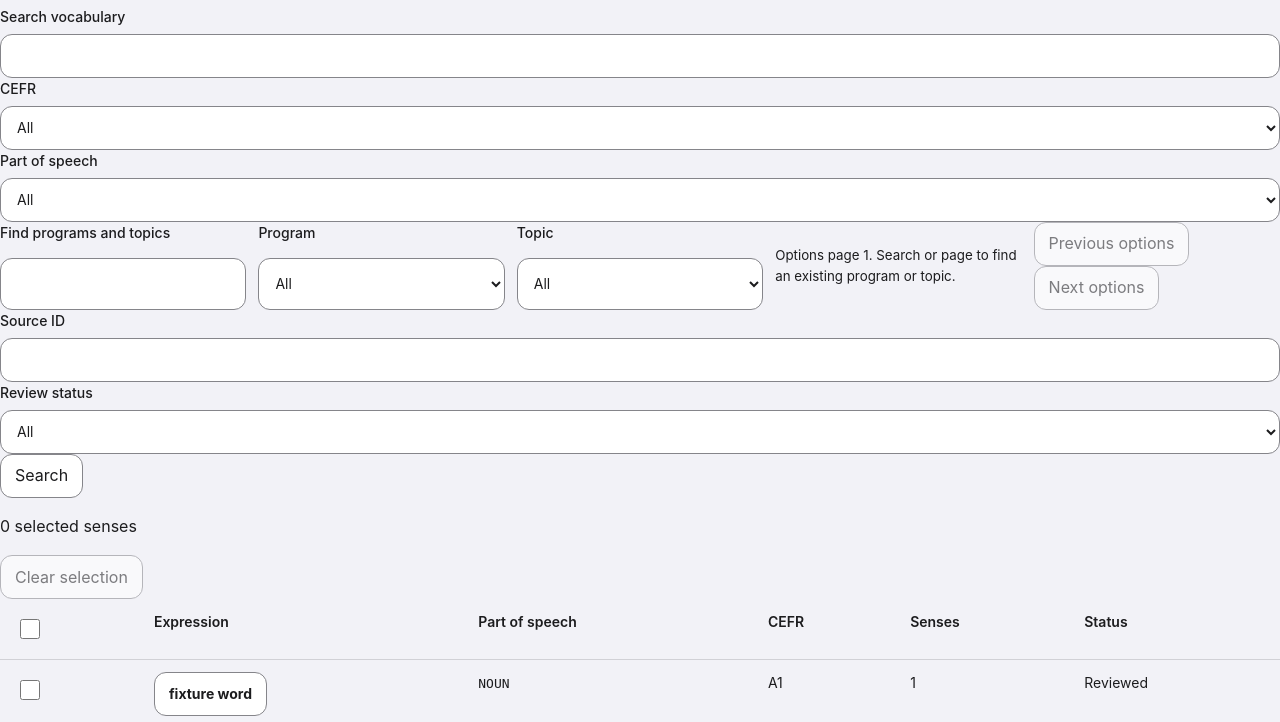
Test: vocabulary workspace › keeps PDF provenance readable when database TXT line fields are null
This screenshot has width=1280, height=722.
(page scrolled)
Click the button "fixture word": (210, 694) [154,672,267,716]
(page scrolled)
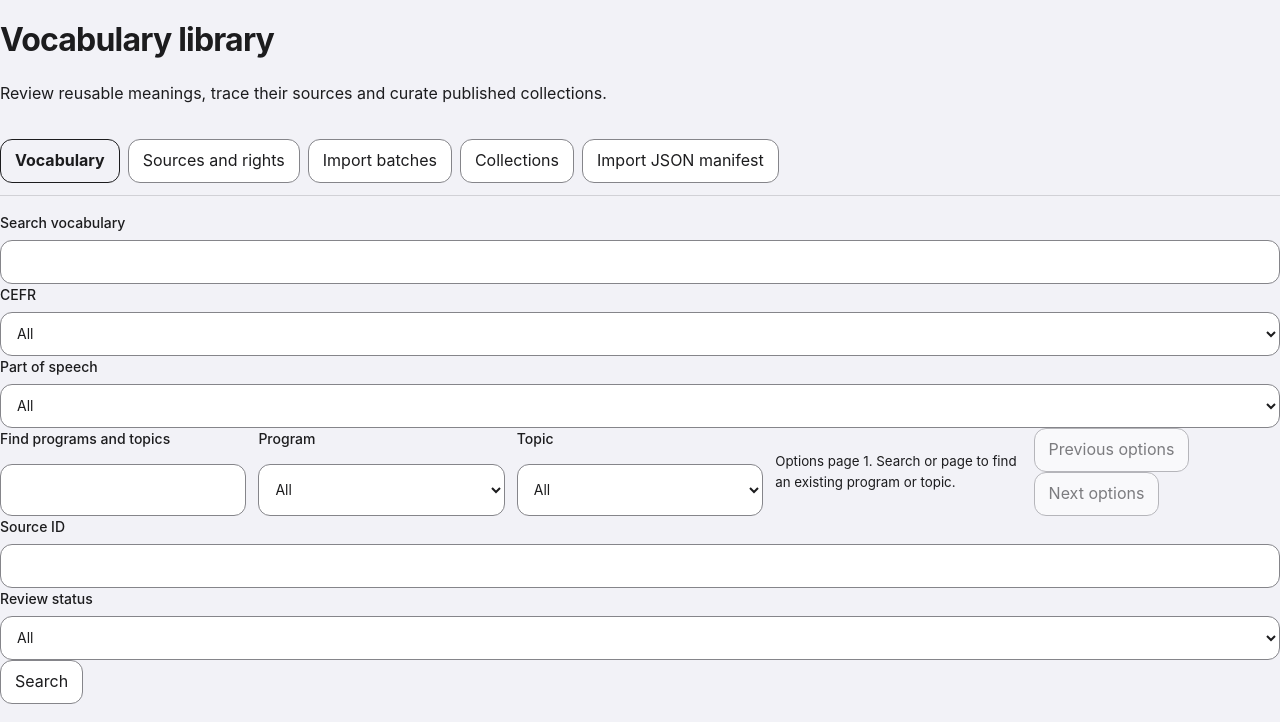
Click the button "Import batches": (380, 161) [308,139,452,183]
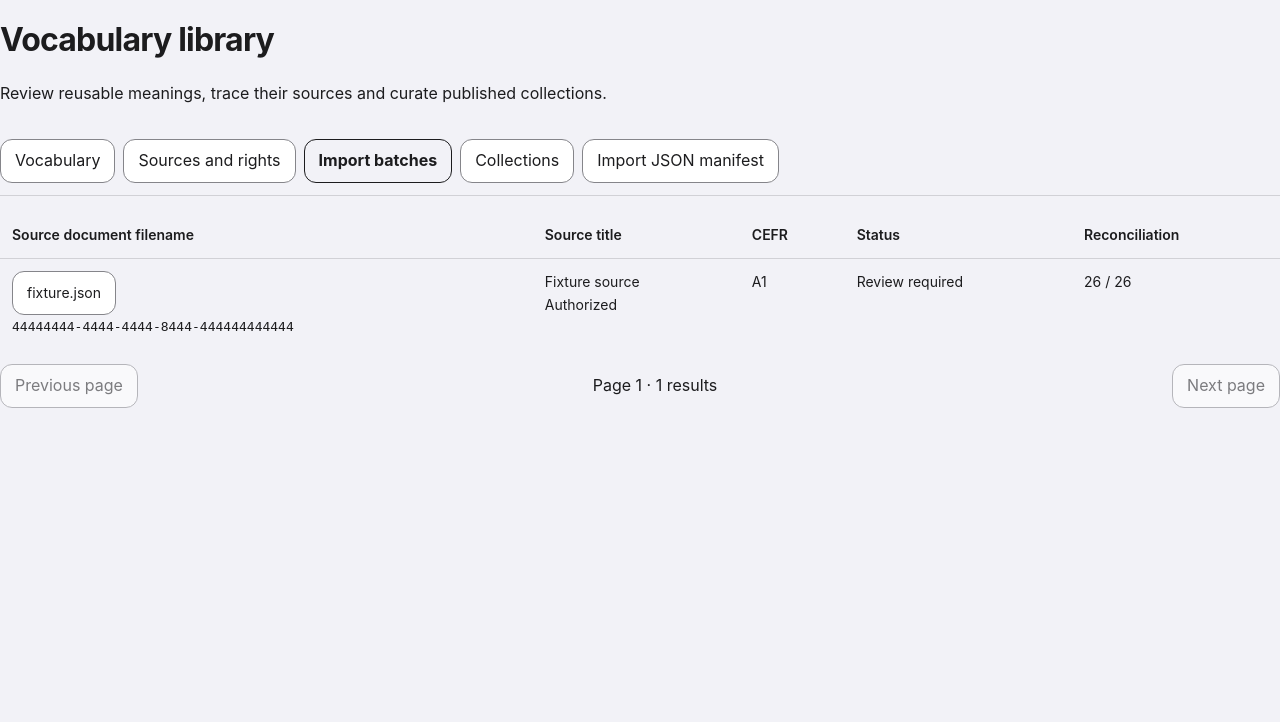
Click the button "fixture.json": (64, 293) [12,271,116,315]
(page scrolled)
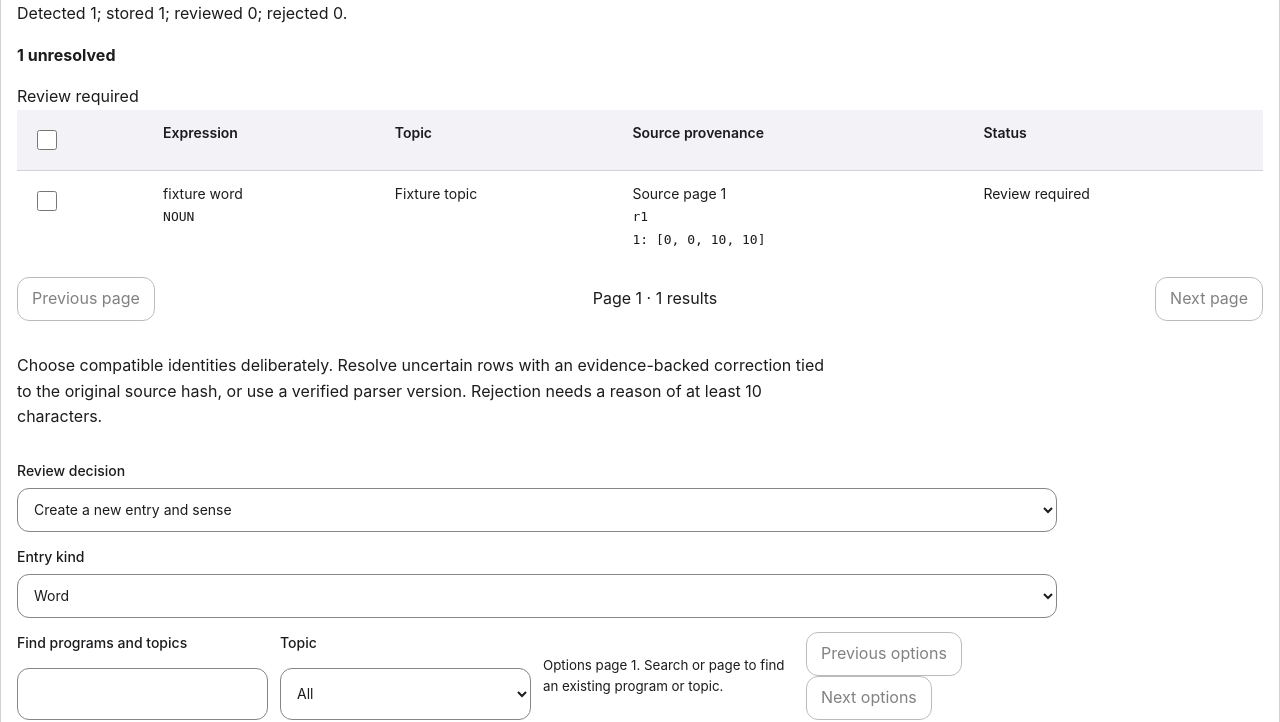
Result: the text "Source page 1" is shown at [632,185,726,202]
